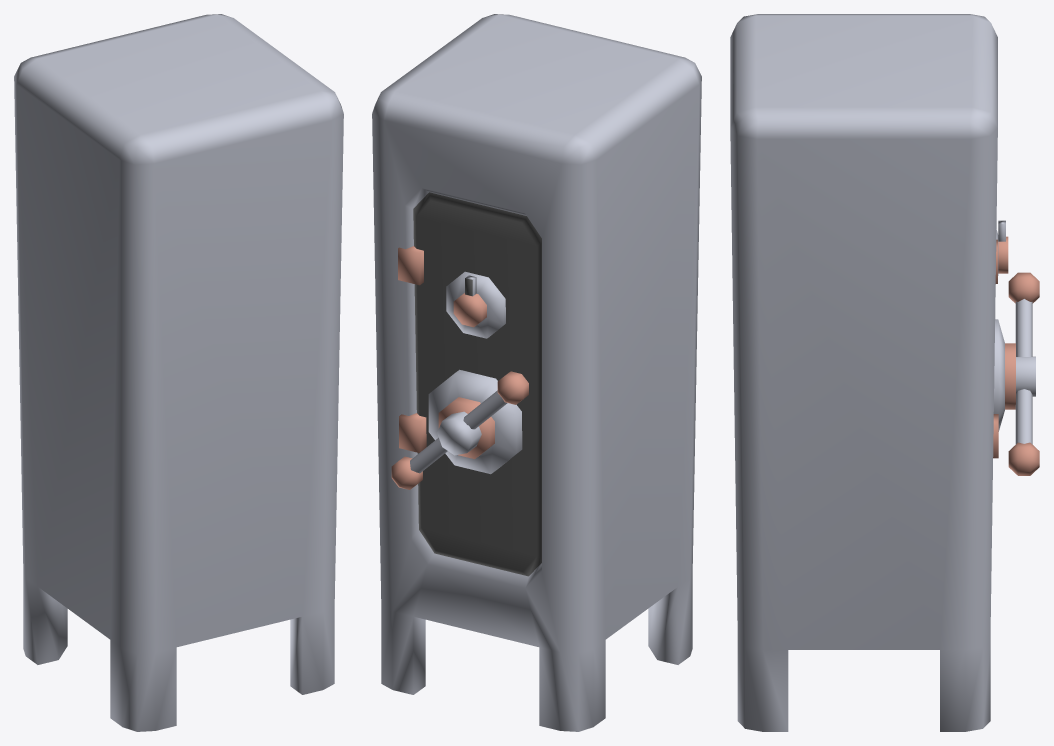
File: safebox_01.glb
3 views of the same model, side by side, from view 1: azimuth 30°, elevation 25°; view 2: azimuth 150°, elevation 25°; view 3: azimuth 270°, elevation 25° (orthographic). The views are drawn at different scales.
Visible parts, largest first — view 1: mesh_safebox_01; view 2: mesh_safebox_01; view 3: mesh_safebox_01.
Part boxes in pixels (x1,y1,x2,y2): mesh_safebox_01: (14, 14, 343, 731); mesh_safebox_01: (372, 14, 701, 731); mesh_safebox_01: (730, 14, 1039, 731).
Size of the model in its own units: 0.8001 by 2.04 by 0.9248.
